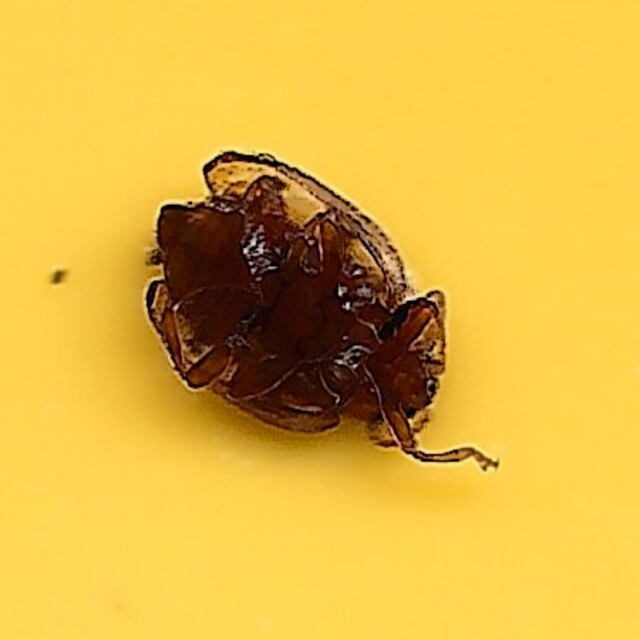Coleoptera: (142, 155, 498, 485)
